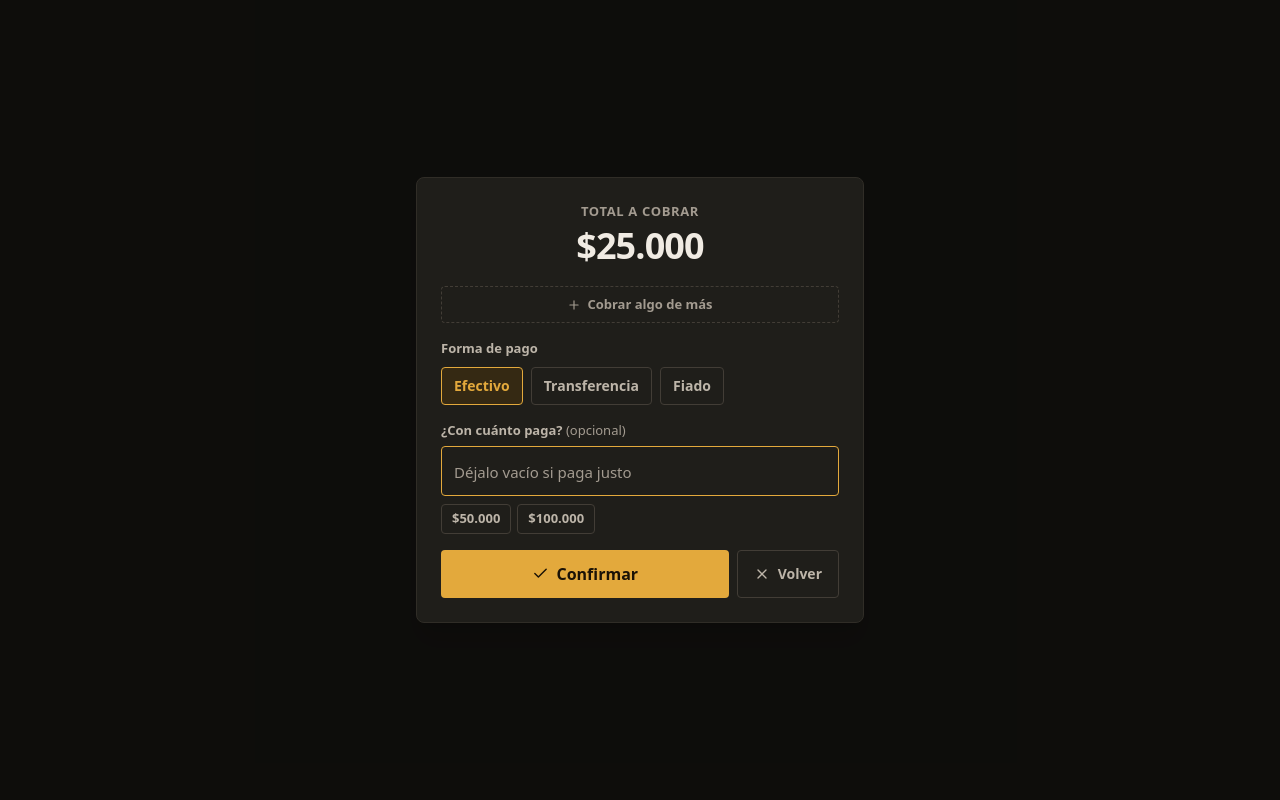
Scenario: otras formas de pago › la transferencia no pregunta por el vuelto
This screenshot has width=1280, height=800.
Click the button "Transferencia".
click(591, 386)  # box [531,367,652,405]
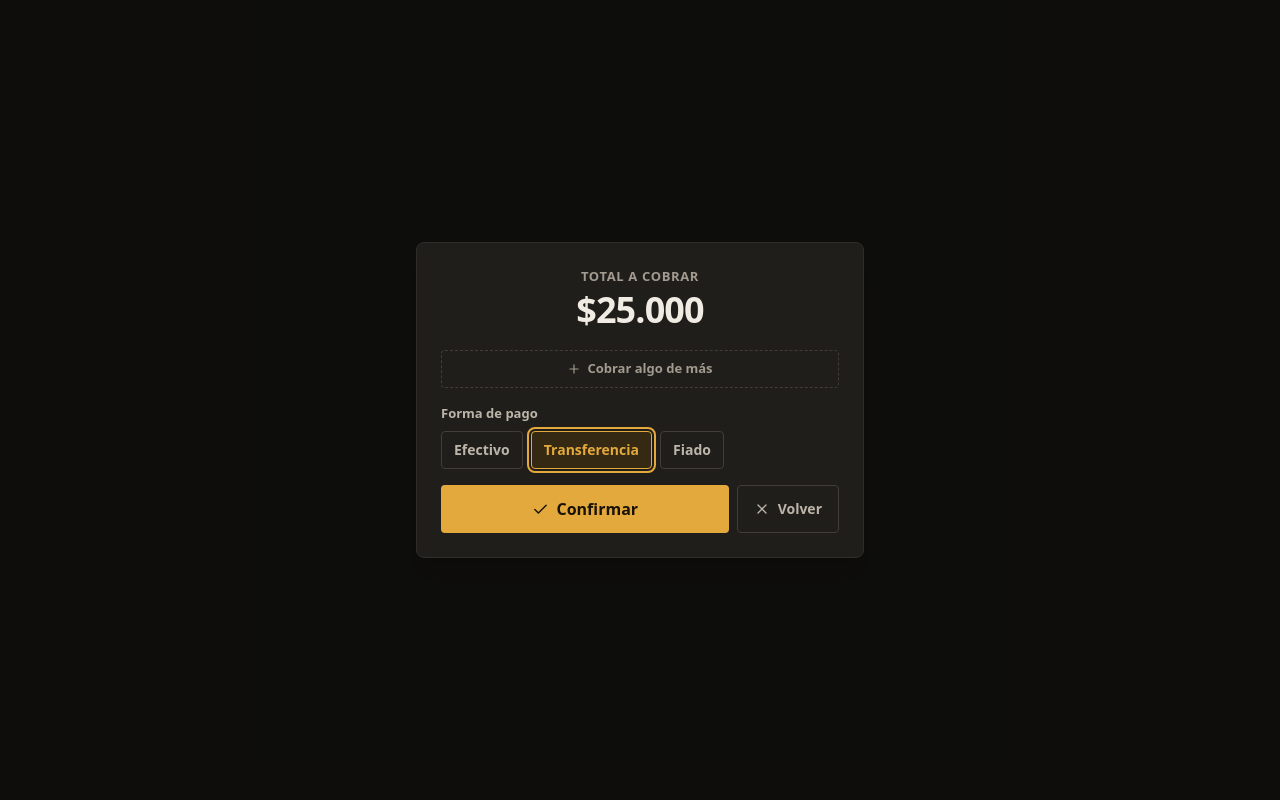
Result: the field labelled "Con cuánto paga" is gone
